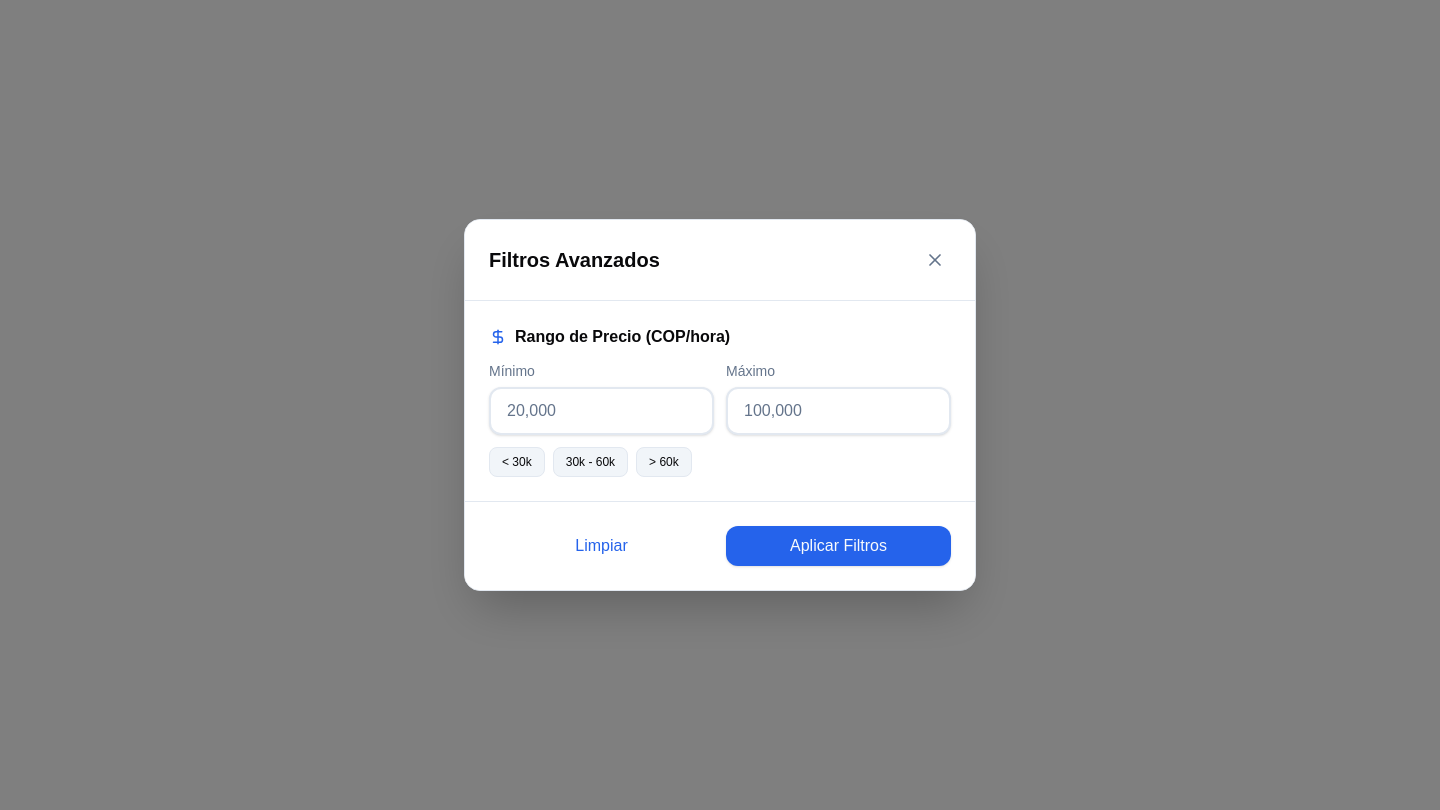
Test: FilterModal Component › clears all input values when Limpiar button is clicked
The image size is (1440, 810).
Type "45000" into the number field with placeholder "20,000".
click(602, 411); type("45000")  # box 489,387 -> 714,435
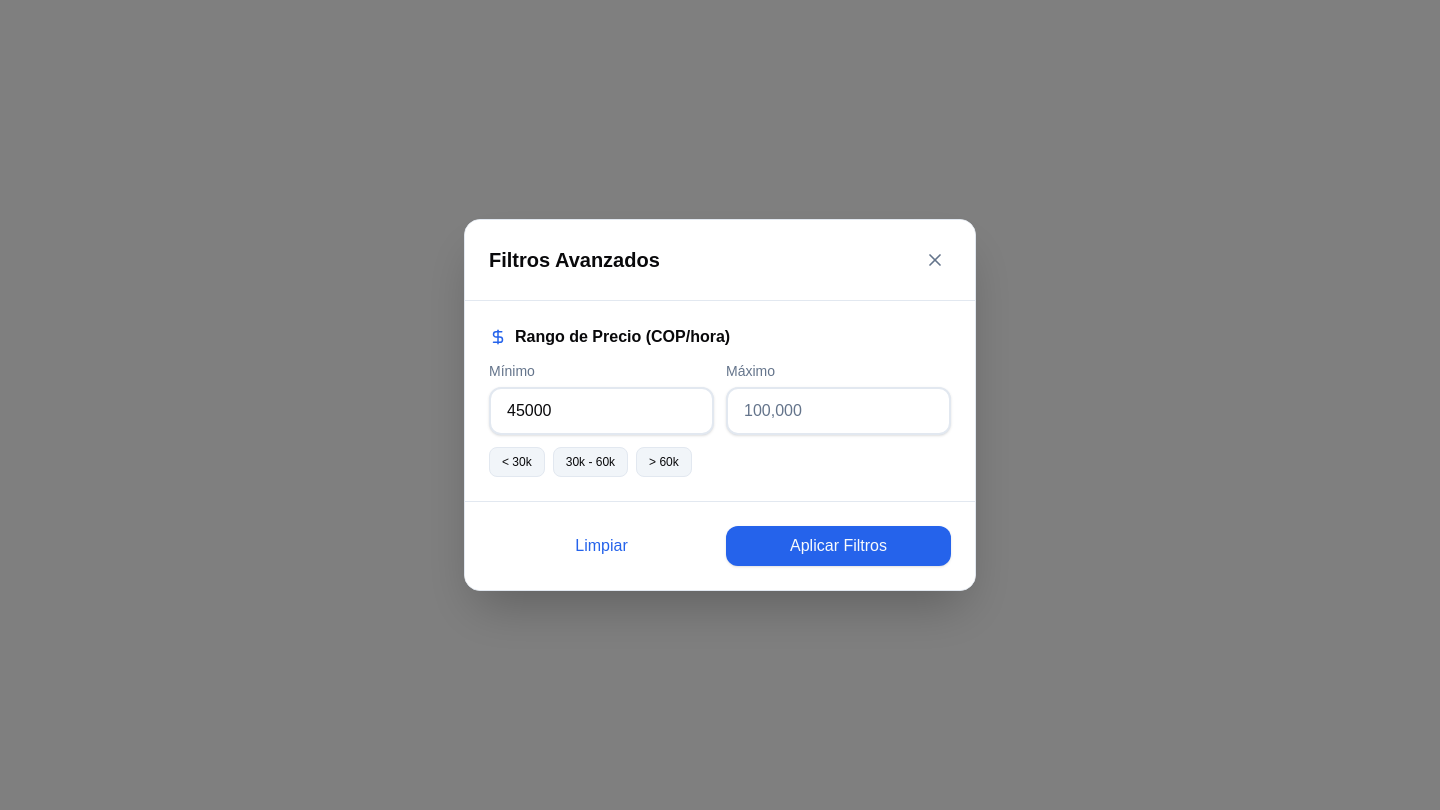
Type "95000" into the number field with placeholder "100,000".
click(838, 411); type("95000")  # box 726,387 -> 951,435
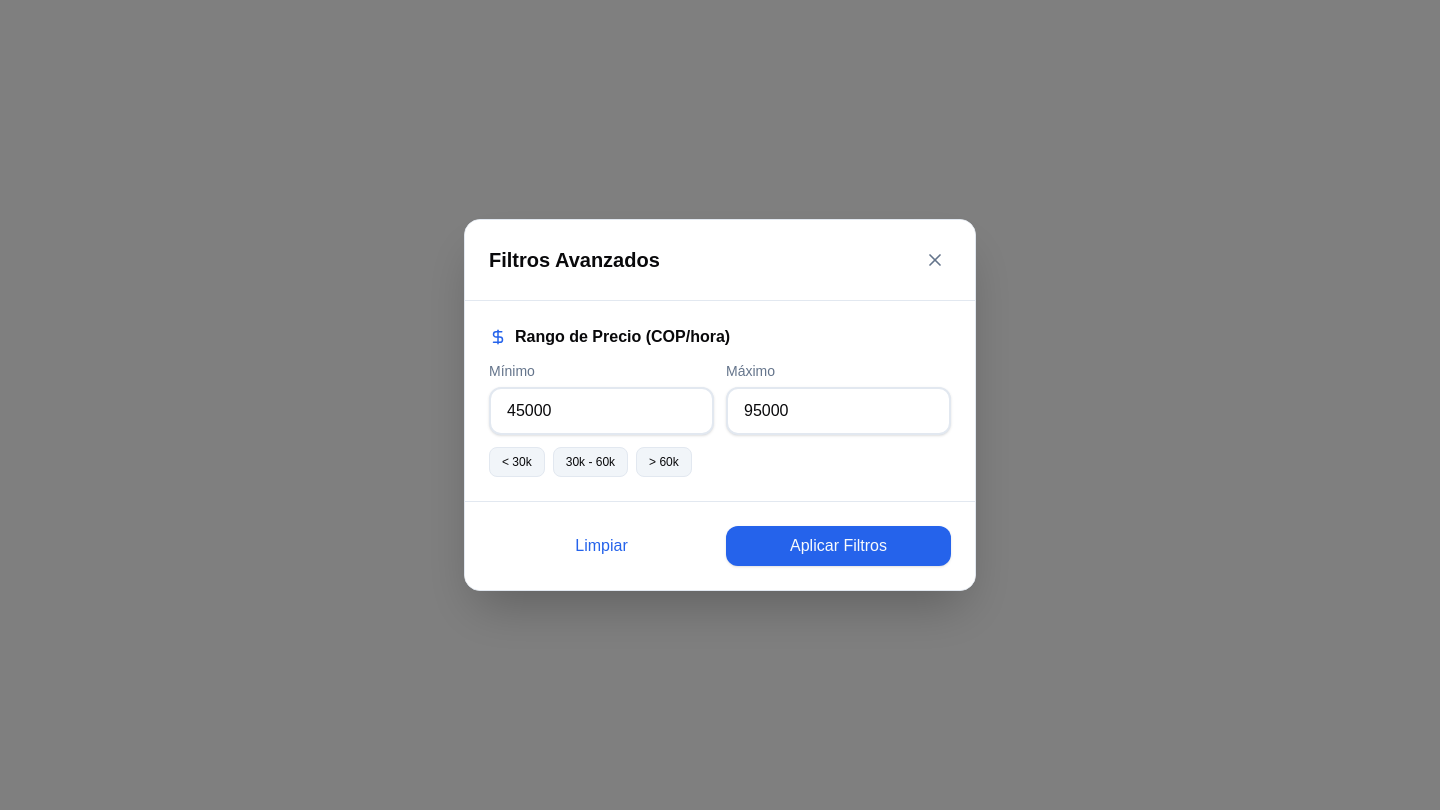
Click the button "Limpiar".
click(602, 546)  # box 489,526 -> 714,566
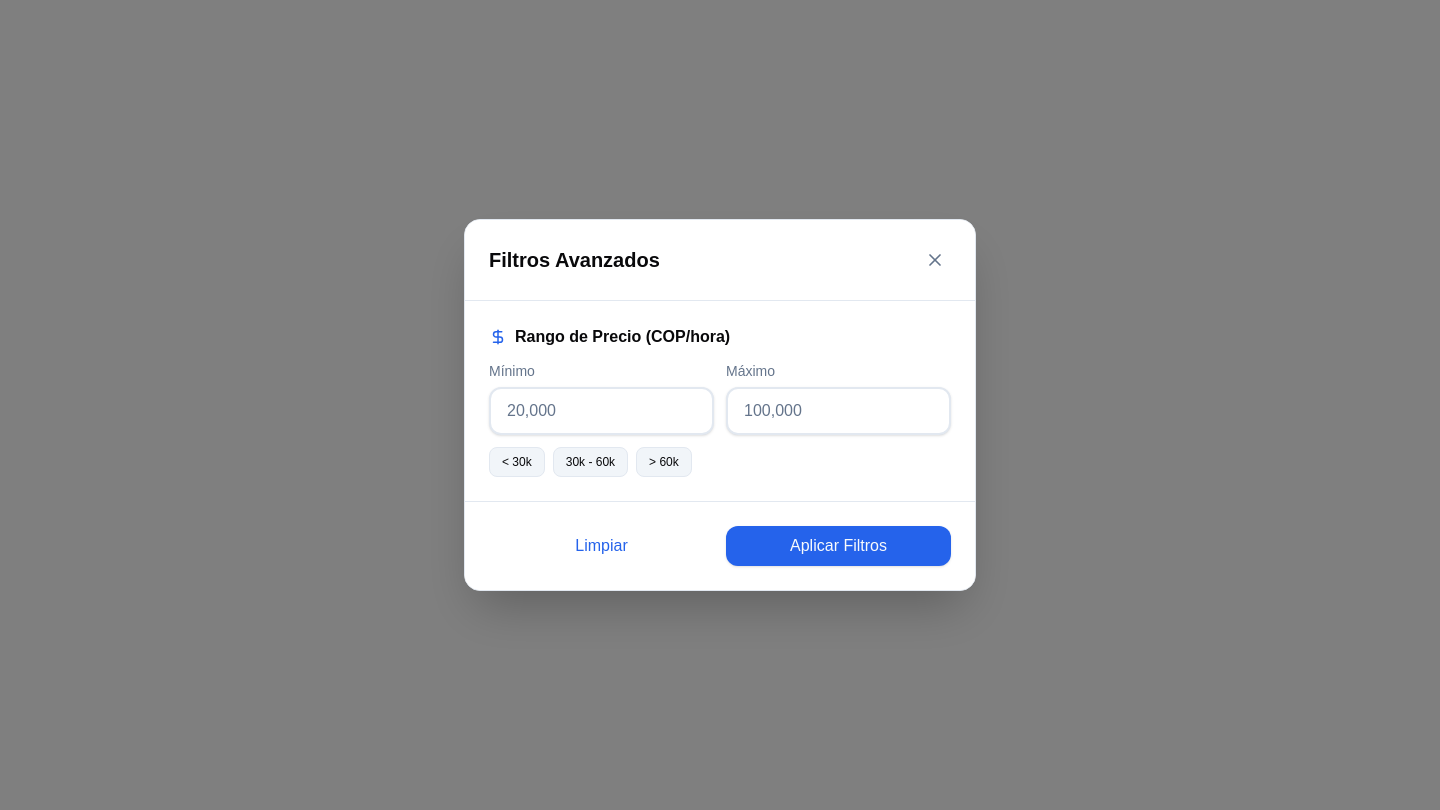
Expected: the number field with placeholder "20,000" is not empty, 489,387 -> 714,435
Expected: the number field with placeholder "100,000" is not empty, 726,387 -> 951,435
